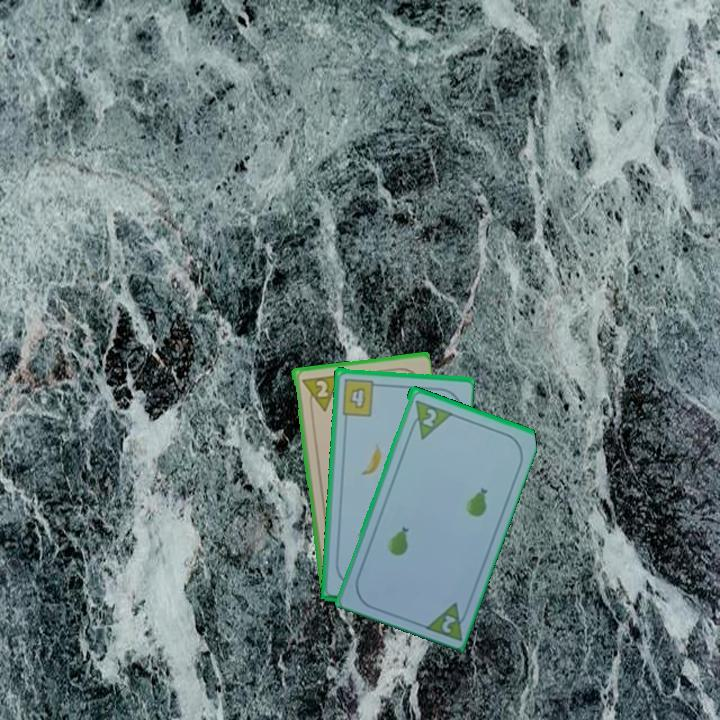2p: (420, 598, 472, 642), (405, 396, 453, 442), (298, 371, 341, 415)
4b: (338, 375, 383, 418)
